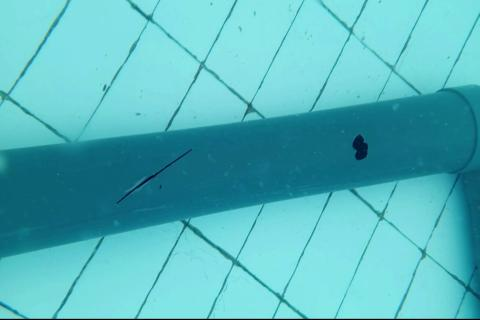kebocoran: (352, 132, 370, 163)
keretakan: (115, 147, 192, 207)
